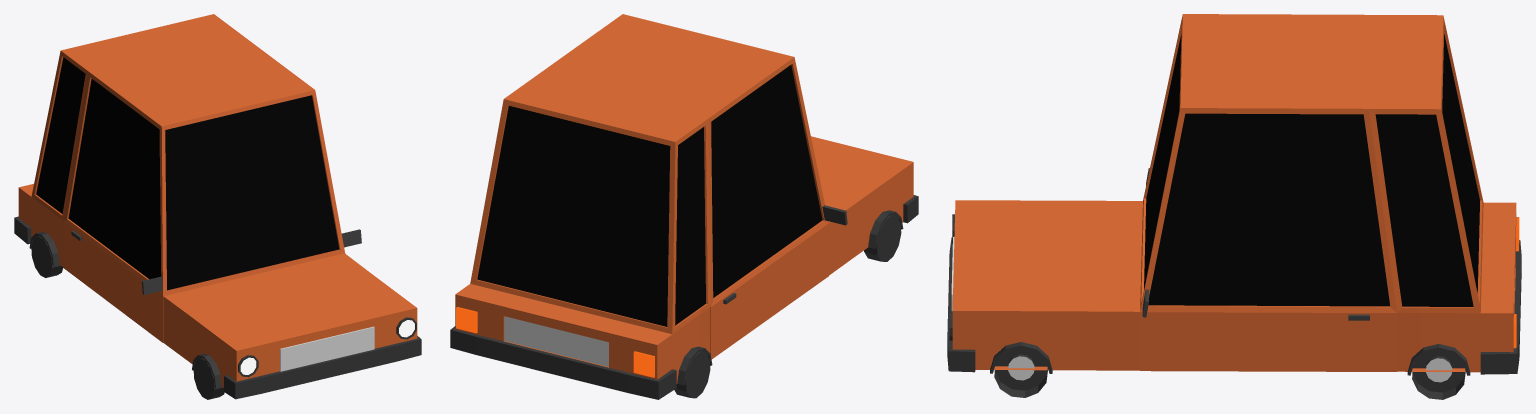
The model's file is car.glb.
3 renders of one model, left to right at view 1: azimuth 30°, elevation 25°; view 2: azimuth 150°, elevation 25°; view 3: azimuth 270°, elevation 25°, orthographic. The views are drawn at different scales.
Parts seen in each view (by area): view 1: Cube.003; view 2: Cube.003; view 3: Cube.003.
Part boxes in pixels (box(x1,y1,x2,y2)): Cube.003: box(14, 14, 421, 399); Cube.003: box(450, 14, 918, 399); Cube.003: box(947, 14, 1521, 399).
Bounding box in the file's own units: 1.57 × 1.53 × 2.86.
